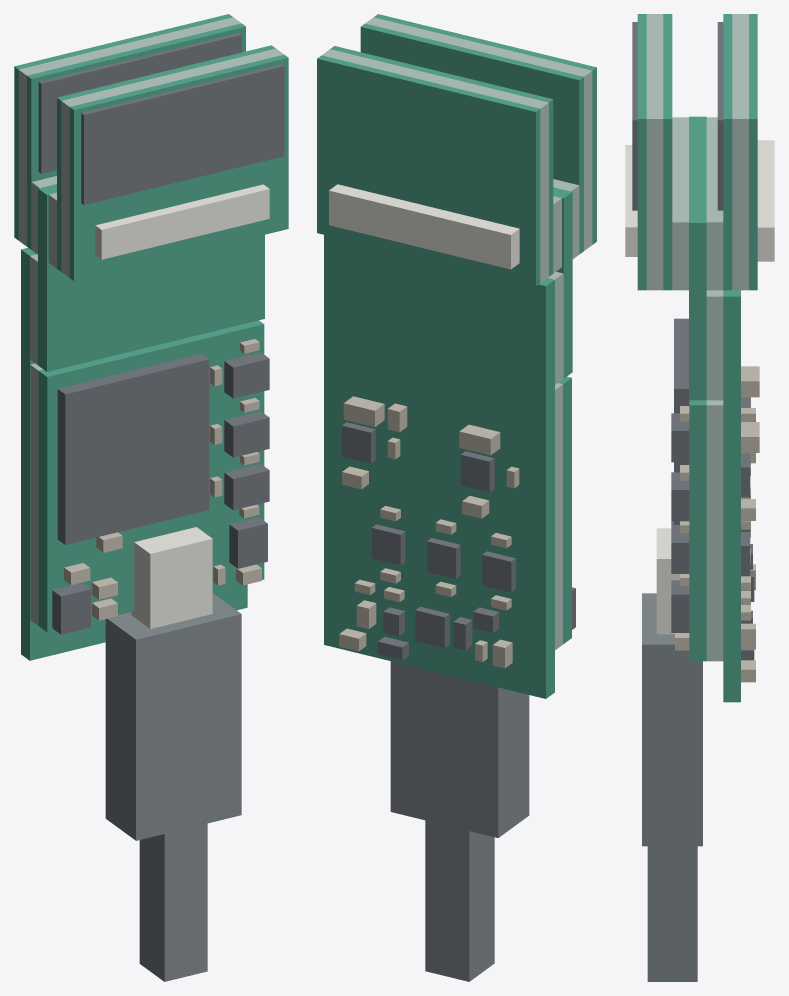
File: Option_B_Head_Stack_V3_Solid.glb
3 views of the same model, side by side, from view 1: azimuth 30°, elevation 25°; view 2: azimuth 150°, elevation 25°; view 3: azimuth 270°, elevation 25° (orthographic).
Parts seen in each view (by area): view 1: board, ic, plug, conn, fill, passive; view 2: board, plug, fill, ic, conn, passive; view 3: board, fill, plug, ic, conn, passive.
Part boxes in pixels (x1=…): board: x1=14, y1=14, x2=288, y2=660; ic: x1=38, y1=33, x2=284, y2=634; plug: x1=105, y1=593, x2=241, y2=981; conn: x1=95, y1=184, x2=269, y2=628; fill: x1=18, y1=17, x2=283, y2=625; passive: x1=64, y1=339, x2=261, y2=620; board: x1=317, y1=14, x2=596, y2=698; plug: x1=390, y1=661, x2=529, y2=981; fill: x1=322, y1=17, x2=592, y2=649; ic: x1=341, y1=422, x2=575, y2=660; conn: x1=329, y1=184, x2=519, y2=269; passive: x1=339, y1=396, x2=519, y2=668; board: x1=637, y1=14, x2=757, y2=702; fill: x1=646, y1=14, x2=748, y2=661; plug: x1=642, y1=593, x2=702, y2=981; ic: x1=632, y1=22, x2=754, y2=660; conn: x1=625, y1=140, x2=774, y2=634; passive: x1=675, y1=366, x2=759, y2=682.
Size of the model in its own units: 22.69 by 89.45 by 13.47.
